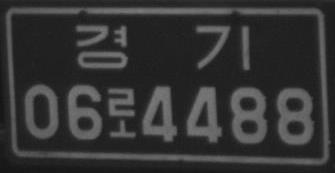0: (23, 82, 59, 141)
4: (184, 85, 223, 143), (141, 85, 177, 143)
6: (66, 83, 103, 141)
8: (229, 85, 268, 145), (275, 86, 314, 146)
경기_D: (75, 23, 251, 72)
로: (106, 85, 136, 139)
